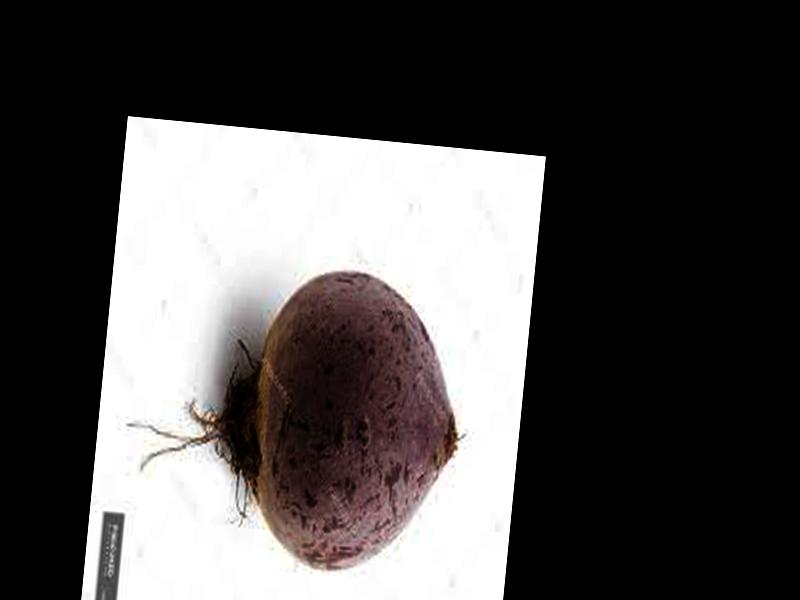Beet: (113, 250, 475, 584)
